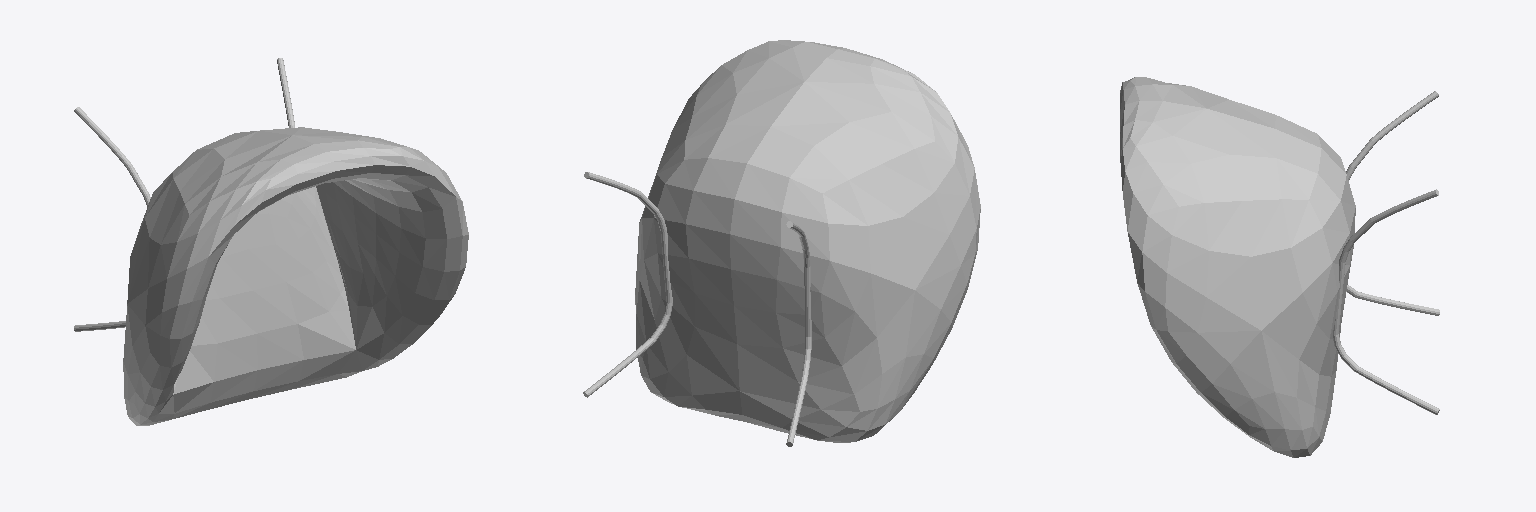
The model's file is Soft Chaiir.obj.
3 renders of one model, left to right at view 1: azimuth 30°, elevation 25°; view 2: azimuth 150°, elevation 25°; view 3: azimuth 270°, elevation 25°, orthographic.
Visible parts, largest first — view 1: Soft_Chair_001; view 2: Soft_Chair_001; view 3: Soft_Chair_001.
Part boxes in pixels (bbox=[...]): Soft_Chair_001: bbox=[74, 58, 468, 425]; Soft_Chair_001: bbox=[583, 40, 980, 446]; Soft_Chair_001: bbox=[1120, 77, 1439, 457].
Size of the model in its own units: 75.58 by 73.58 by 68.7.